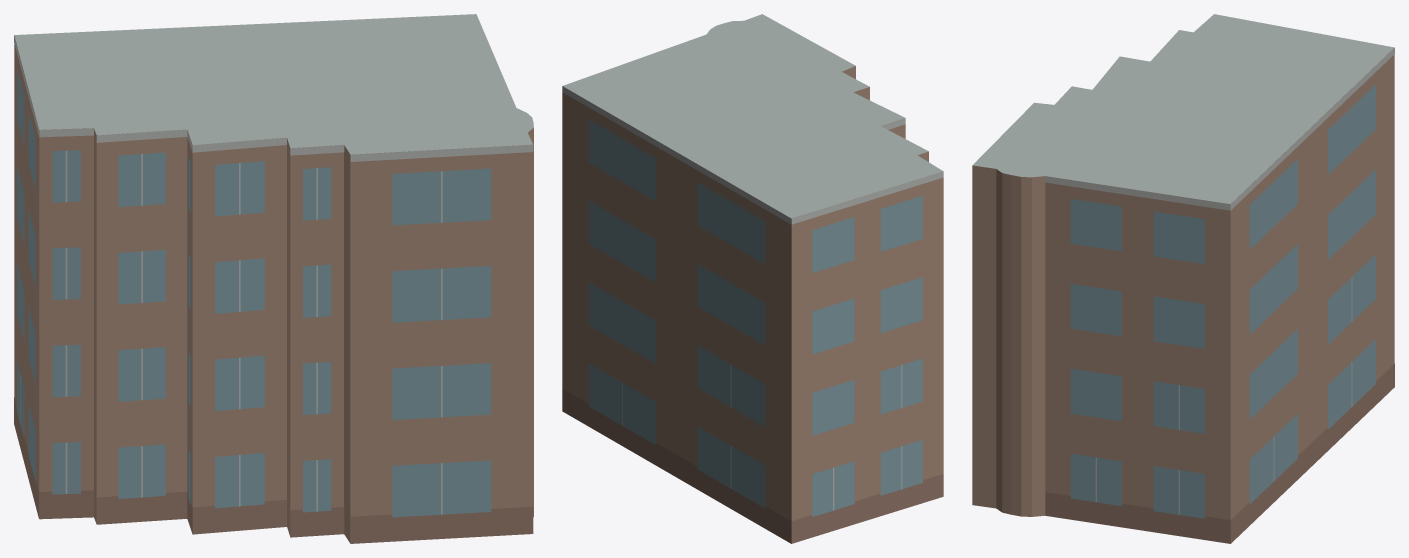
File: survey-upis-32884797.glb
3 renders of one model, left to right at view 1: azimuth 30°, elevation 25°; view 2: azimuth 150°, elevation 25°; view 3: azimuth 270°, elevation 25°, orthographic. The views are drawn at different scales.
Visible parts, largest first — view 1: survey-upis-32884797.tmp; view 2: survey-upis-32884797.tmp; view 3: survey-upis-32884797.tmp.
Part boxes in pixels (x1,y1,x2,y2): survey-upis-32884797.tmp: (14, 14, 533, 543); survey-upis-32884797.tmp: (562, 14, 943, 543); survey-upis-32884797.tmp: (972, 14, 1394, 543).
Size of the model in its own units: 15.38 by 12.8 by 14.44.
